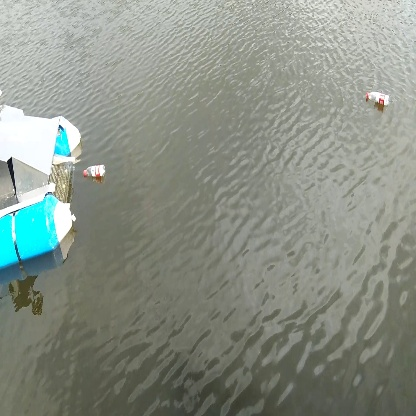bottle: (361, 86, 393, 113), (79, 160, 112, 181)
